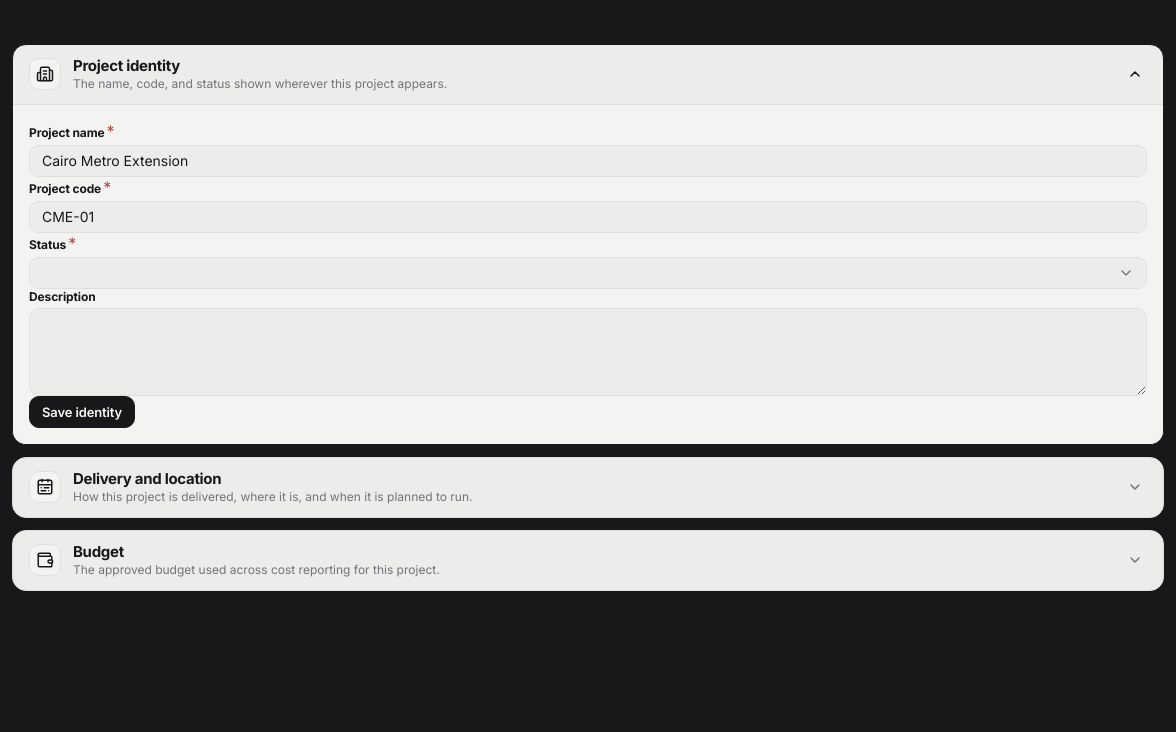
Test: ProjectSettingsPage › keeps only one section open at a time
Click the button "Delivery and location". click: x=45, y=487
box: x1=13 y1=458 x2=1163 y2=517
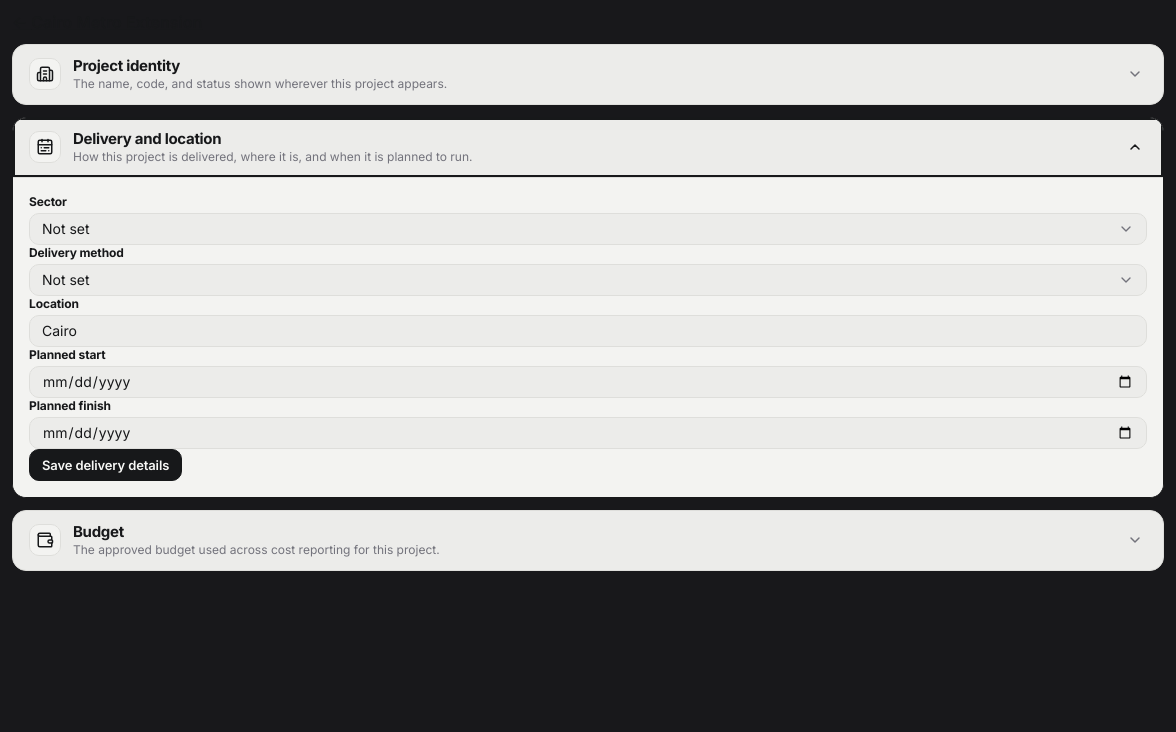
Expected: the button "Delivery and location" is expanded, x1=13 y1=118 x2=1163 y2=177
Expected: the button "Project identity" is collapsed, x1=13 y1=45 x2=1163 y2=104
